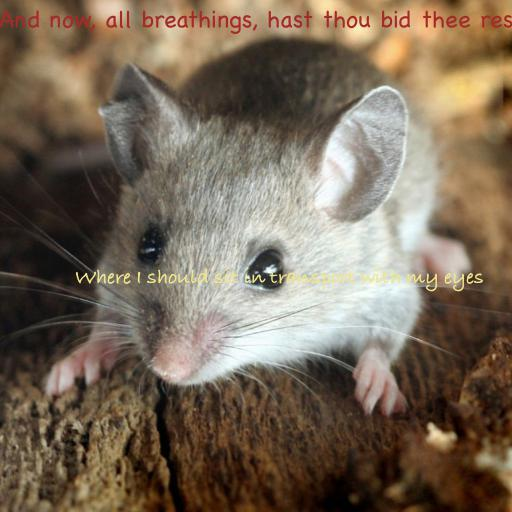Bradley Hand: (74, 267, 484, 292)
Chalkboard: (0, 10, 512, 35)
